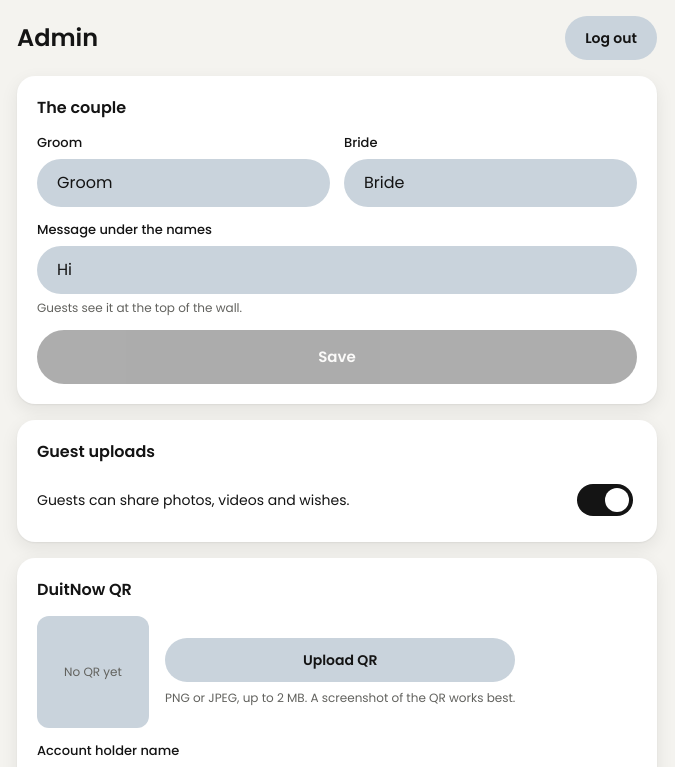
Scenario: AdminDashboard › closes uploads from the switch
Click the switch named "Guests can upload" at (605, 500), box [573,478,637,522]
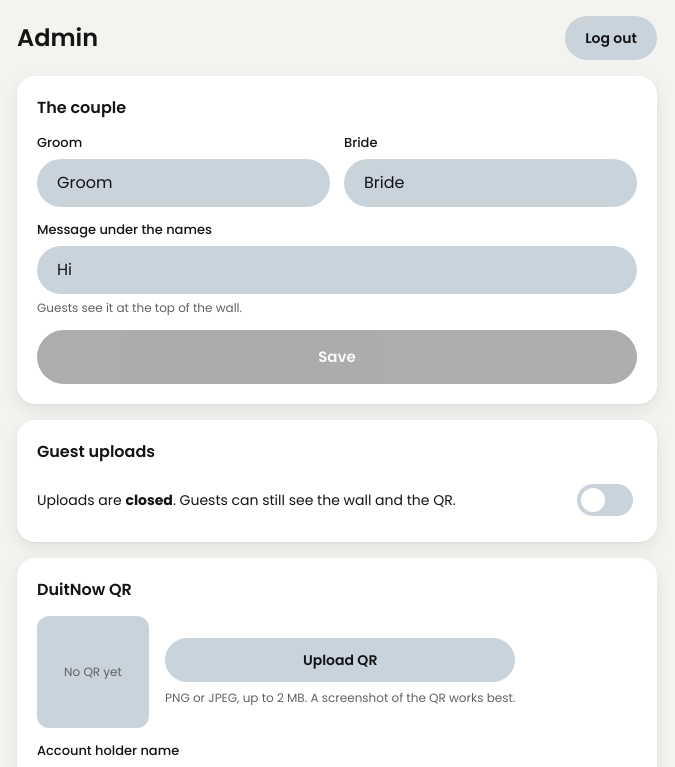
Result: the text "Uploads are" is shown at [37,490,125,510]
